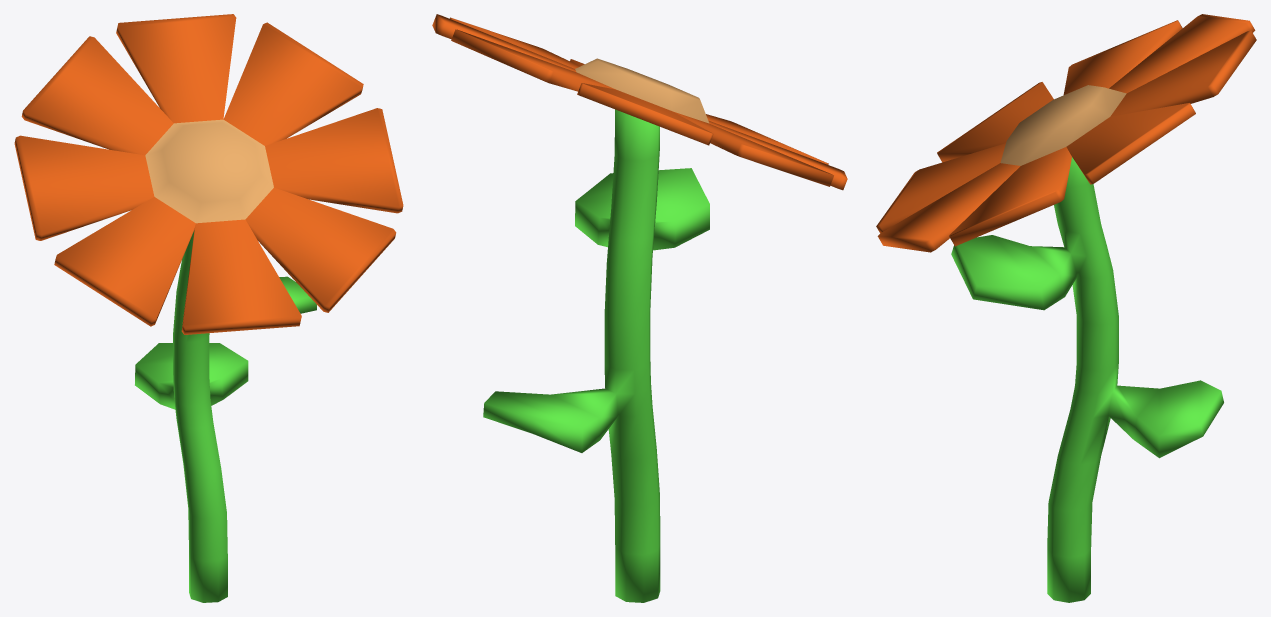
File: flower3.fbx
The picture shows the model from 3 angles, left to right: view 1: azimuth 30°, elevation 25°; view 2: azimuth 150°, elevation 25°; view 3: azimuth 270°, elevation 25°; orthographic projection. The views are drawn at different scales.
Parts seen in each view (by area): view 1: Circle, Circle.001; view 2: Circle.001, Circle; view 3: Circle, Circle.001.
Part boxes in pixels (left/top/right/bottom): Circle: left=14, top=14, right=403, bottom=334; Circle.001: left=135, top=230, right=316, bottom=602; Circle.001: left=483, top=109, right=709, bottom=602; Circle: left=432, top=14, right=847, bottom=190; Circle: left=876, top=14, right=1256, bottom=252; Circle.001: left=951, top=157, right=1223, bottom=602.
Bounding box in the file's own units: 1946 × 2812 × 1734.
